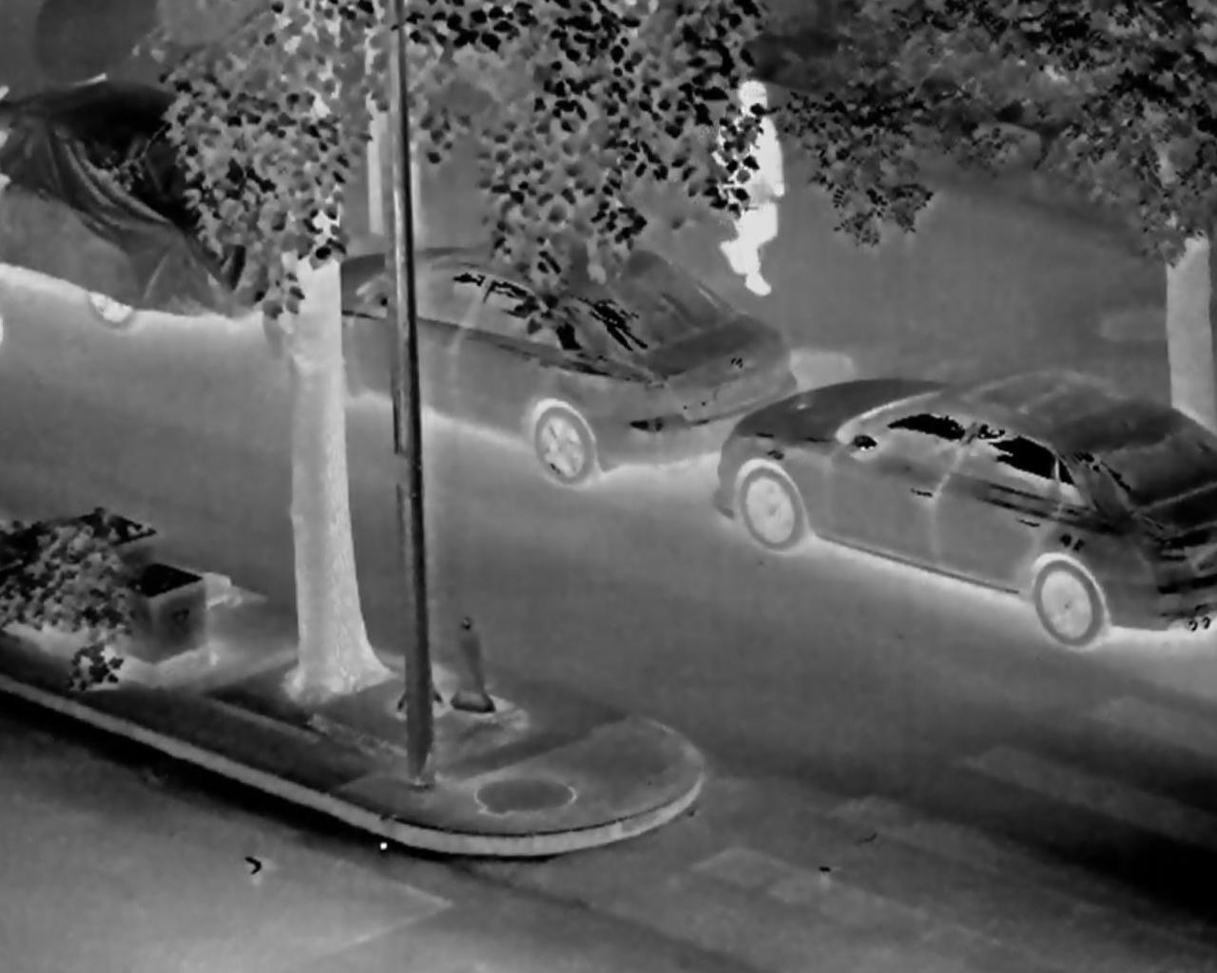person: (701, 62, 808, 308)
